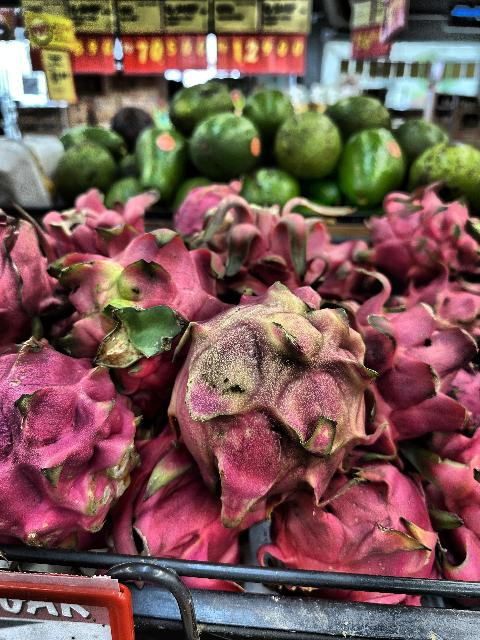buah-naga-belum-matang: (172, 288, 379, 512), (31, 231, 219, 385)
buah-naga-matang: (0, 341, 138, 543), (266, 456, 432, 606), (352, 264, 474, 440), (120, 425, 250, 589), (186, 197, 334, 295), (374, 184, 480, 278), (1, 205, 57, 338), (35, 190, 159, 250)
